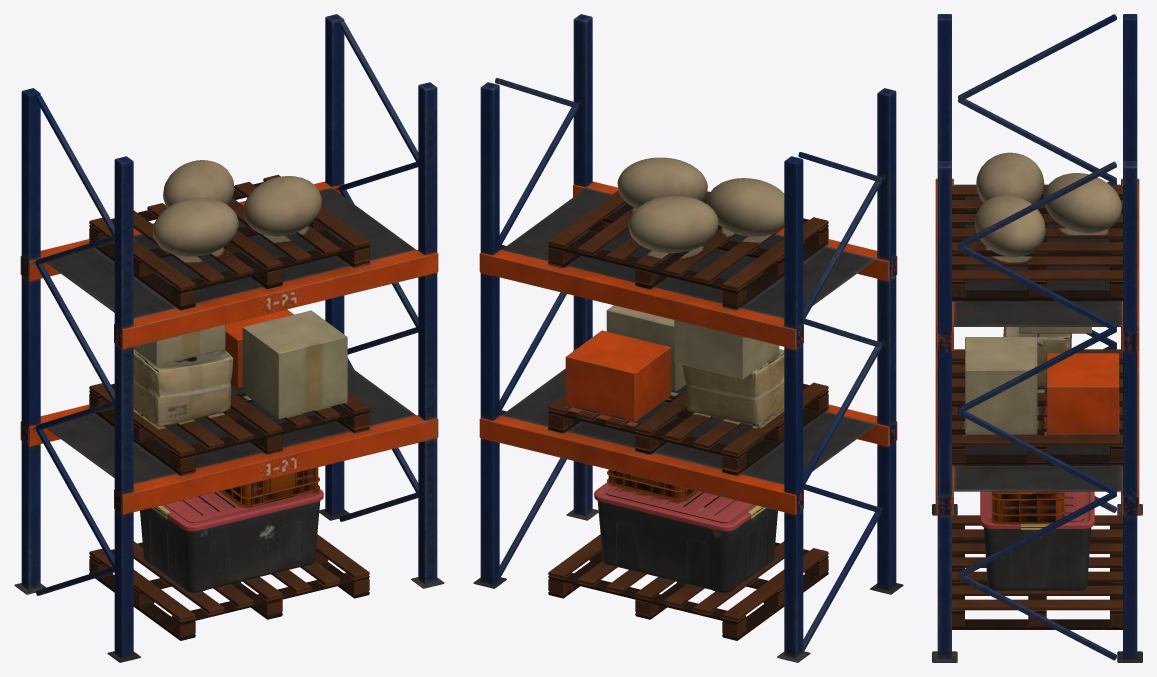
The model's file is storage_rack.glb.
The picture shows the model from 3 angles, left to right: view 1: azimuth 30°, elevation 25°; view 2: azimuth 150°, elevation 25°; view 3: azimuth 270°, elevation 25°; orthographic projection.
Parts seen in each view (by area): view 1: storage_rack; view 2: storage_rack; view 3: storage_rack.
Part boxes in pixels (x1=…): storage_rack: x1=14, y1=14, x2=444, y2=662; storage_rack: x1=473, y1=14, x2=903, y2=662; storage_rack: x1=932, y1=14, x2=1142, y2=662.
Size of the model in its own units: 2.06 by 3.02 by 1.16.
2 materials, 2 textured.
